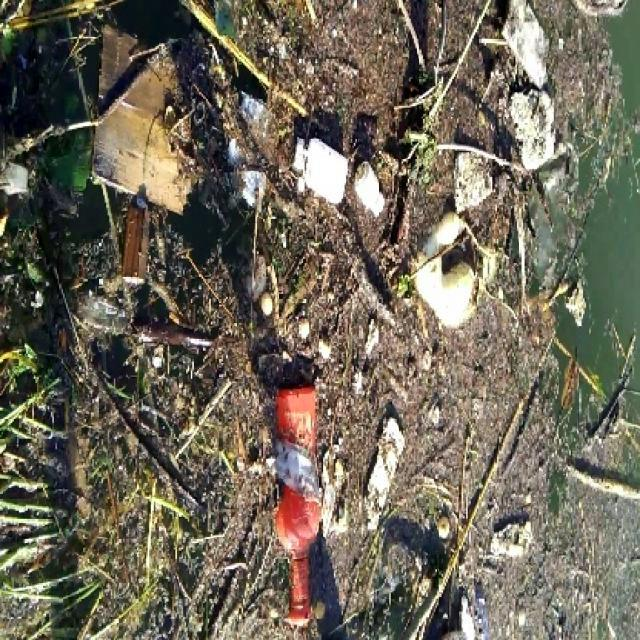Plastic: (262, 394, 330, 626)
